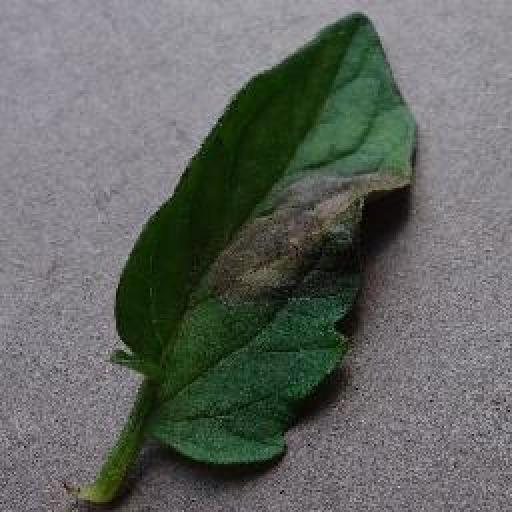disease_tomato: (113, 8, 416, 469)
